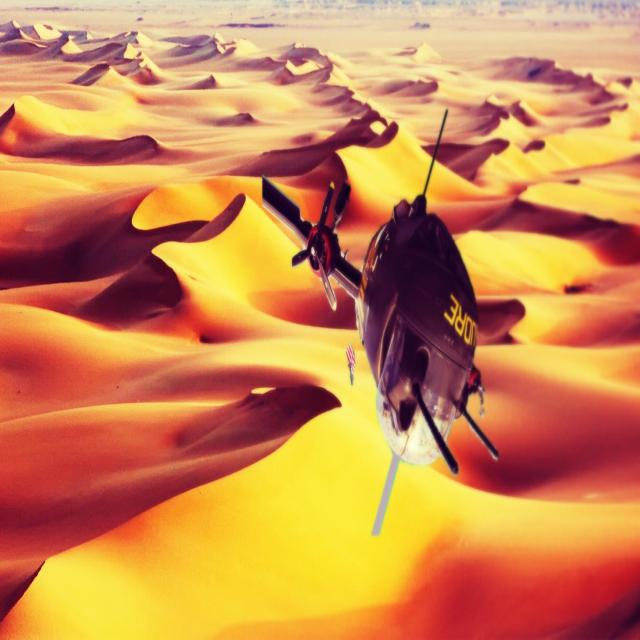airplane: (262, 106, 526, 540)
